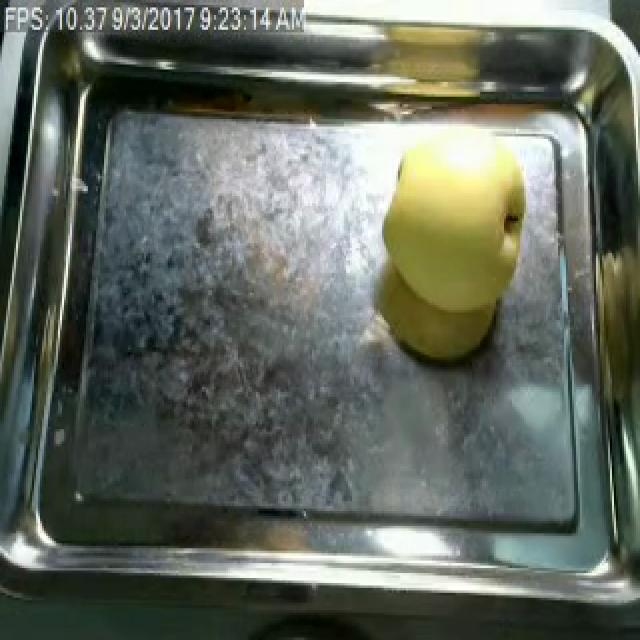Fruit: (370, 124, 542, 367)
